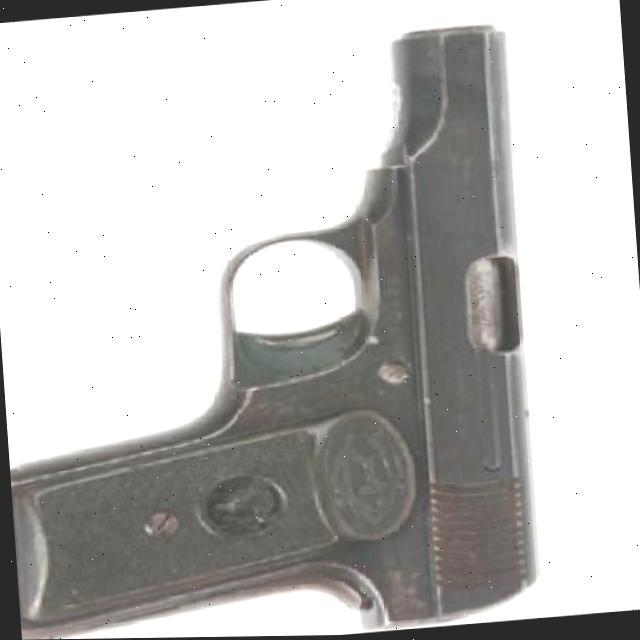gun: (0, 18, 548, 640)
